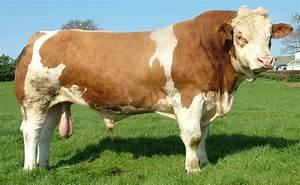cow: (13, 5, 293, 174)
